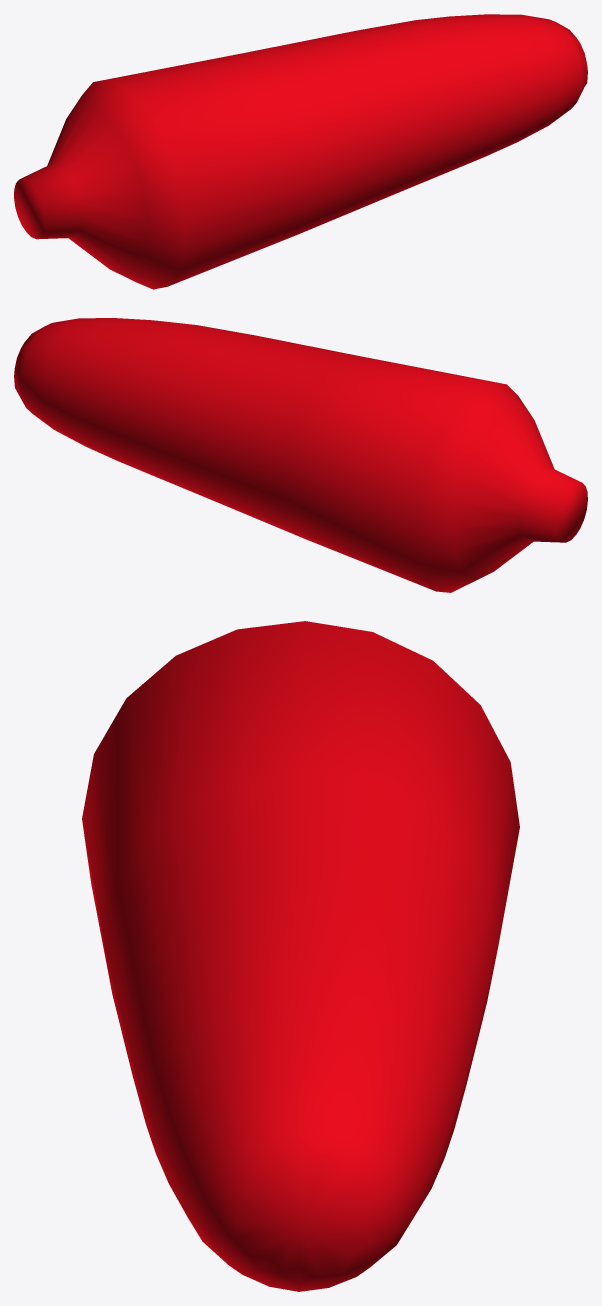
The model's file is Elbow034.fbx.
3 views of the same model, one above another, from view 1: azimuth 30°, elevation 25°; view 2: azimuth 150°, elevation 25°; view 3: azimuth 270°, elevation 25° (orthographic). The views are drawn at different scales.
Visible parts, largest first — view 1: Cube.002; view 2: Cube.002; view 3: Cube.002.
Part boxes in pixels (x1,y1,x2,y2): Cube.002: (14,14,587,289); Cube.002: (14,318,587,592); Cube.002: (82,621,519,1291).
Bounding box in the file's own units: 12.3 × 4.21 × 4.24.
